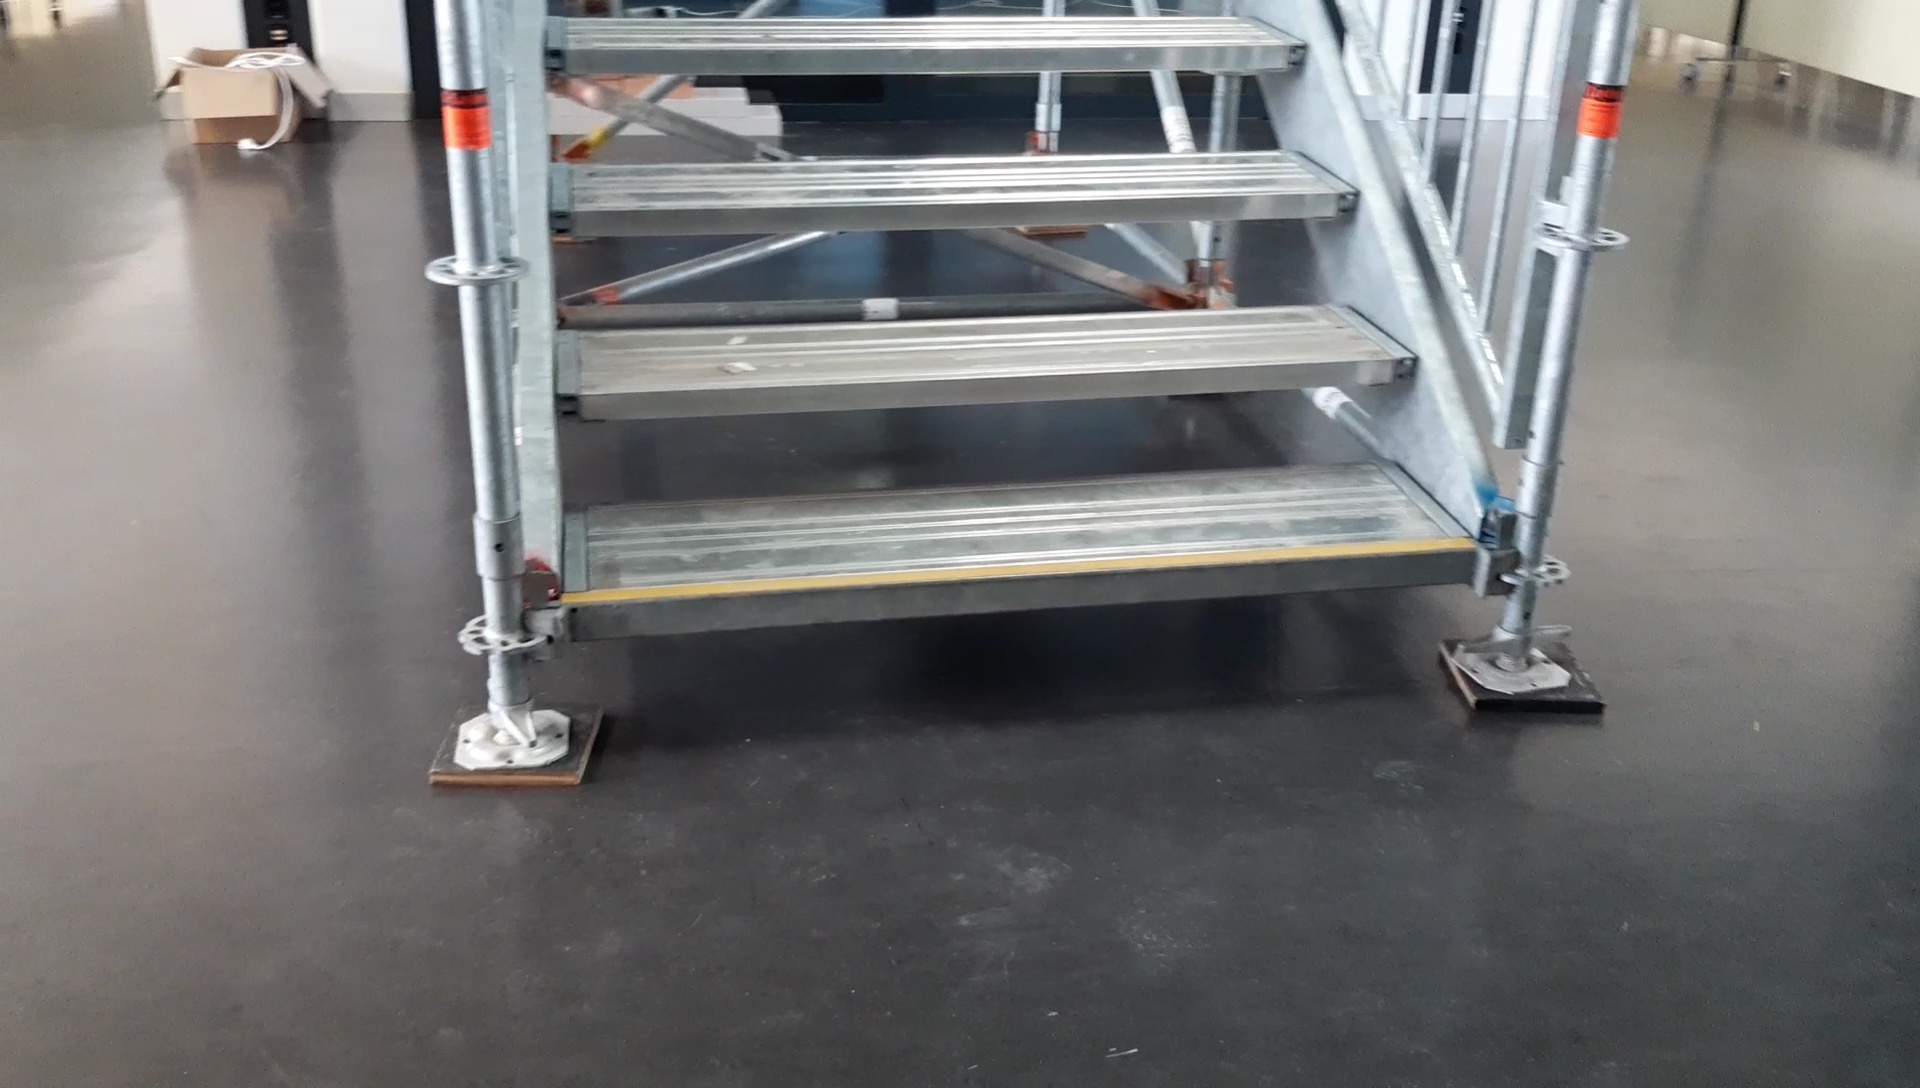edge: (567, 543, 1481, 633), (555, 355, 1418, 419), (549, 190, 1362, 237), (547, 42, 1308, 70)
stairs: (425, 0, 1607, 783)
